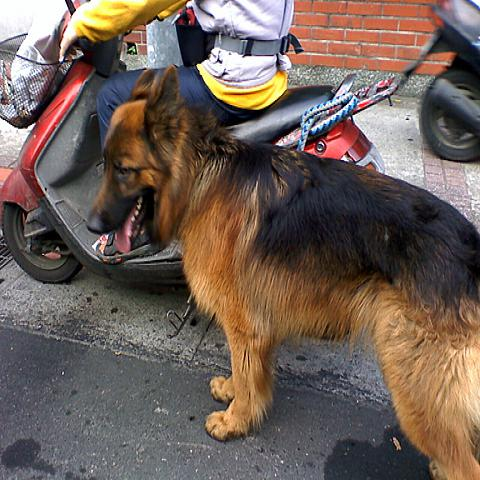motorcycle: (1, 57, 400, 340), (404, 0, 480, 163)
